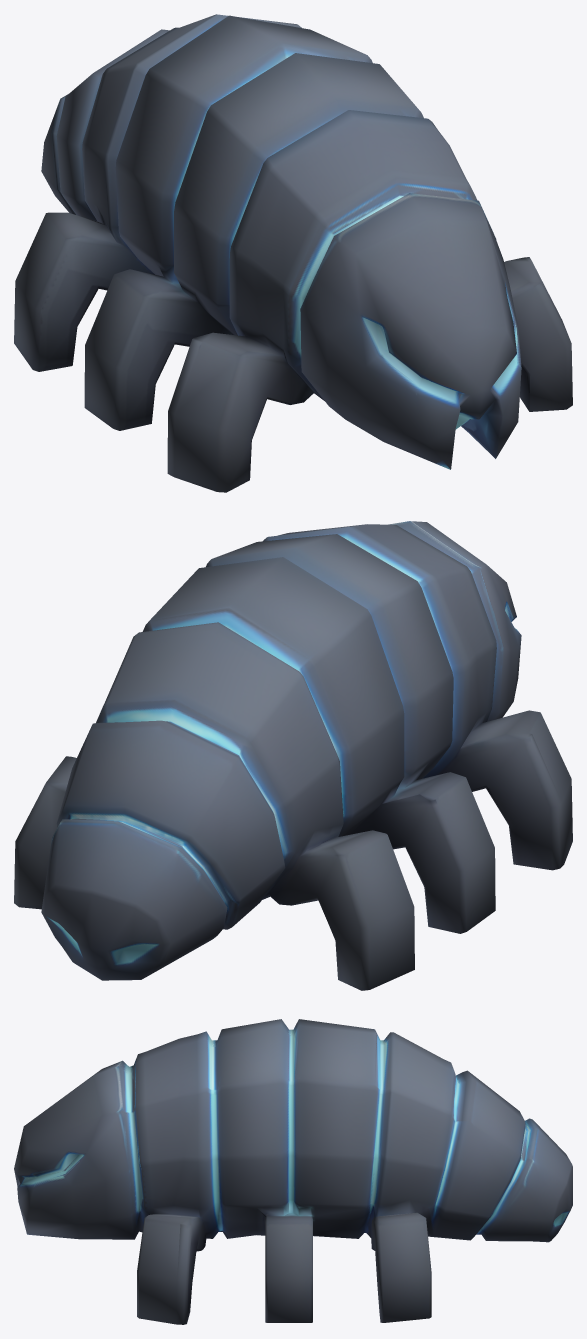
Rendered from monster_normal.glb.
3 renders of one model, top to bottom at view 1: azimuth 30°, elevation 25°; view 2: azimuth 150°, elevation 25°; view 3: azimuth 270°, elevation 25°, orthographic. The views are drawn at different scales.
Visible parts, largest first — view 1: mesh_rep_0_ori_repair_quad; view 2: mesh_rep_0_ori_repair_quad; view 3: mesh_rep_0_ori_repair_quad.
Boxes of the visible parts, bbox=[...] form: mesh_rep_0_ori_repair_quad: bbox=[14, 14, 572, 492]; mesh_rep_0_ori_repair_quad: bbox=[14, 521, 572, 990]; mesh_rep_0_ori_repair_quad: bbox=[14, 1019, 572, 1324].
Size of the model in its own units: 67.65 by 53.57 by 117.
1 material, 1 textured.
